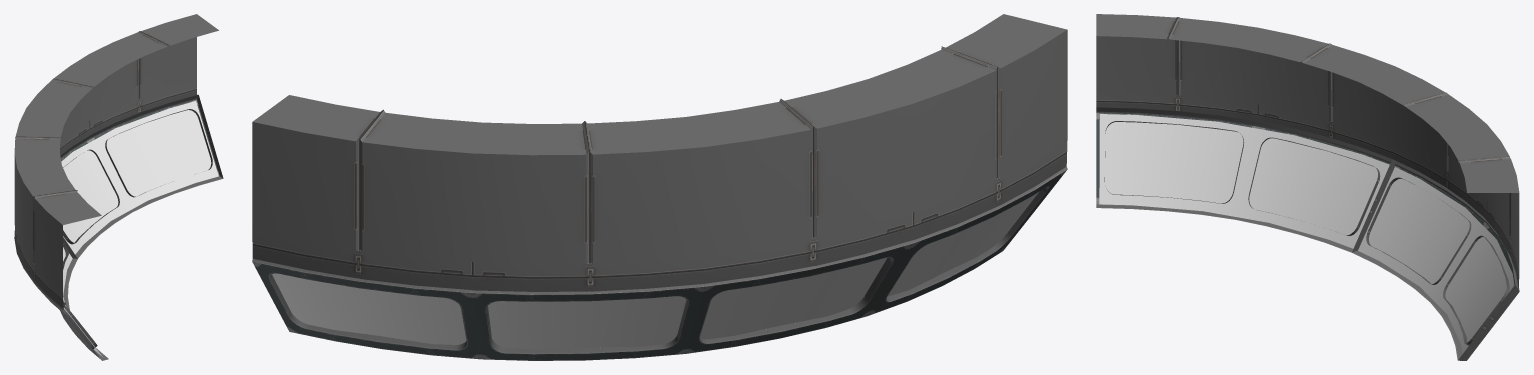
Rendered from S_TopWindowCornerCurveOuter.gltf.
The picture shows the model from 3 angles, left to right: view 1: azimuth 30°, elevation 25°; view 2: azimuth 150°, elevation 25°; view 3: azimuth 270°, elevation 25°; orthographic projection. The views are drawn at different scales.
Visible parts, largest first — view 1: Plane_174-col; view 2: Plane_174-col; view 3: Plane_174-col.
Boxes of the visible parts, x1,y1,x2,y2 form: Plane_174-col: (14,14,223,360); Plane_174-col: (252,14,1067,360); Plane_174-col: (1096,14,1519,360).
Size of the model in its own units: 4.57 by 2.02 by 4.57.
4 materials, 3 textured.
